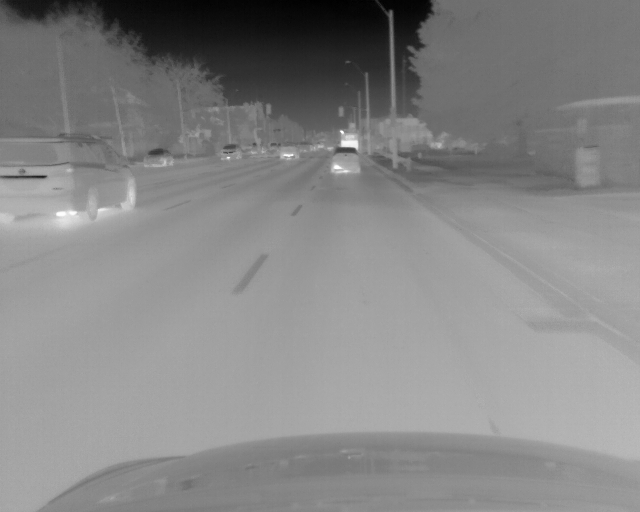car: (1, 136, 139, 222), (329, 147, 361, 175), (141, 147, 175, 169), (219, 144, 243, 163), (338, 129, 359, 148), (280, 143, 299, 163), (299, 143, 315, 155), (267, 142, 279, 156)
